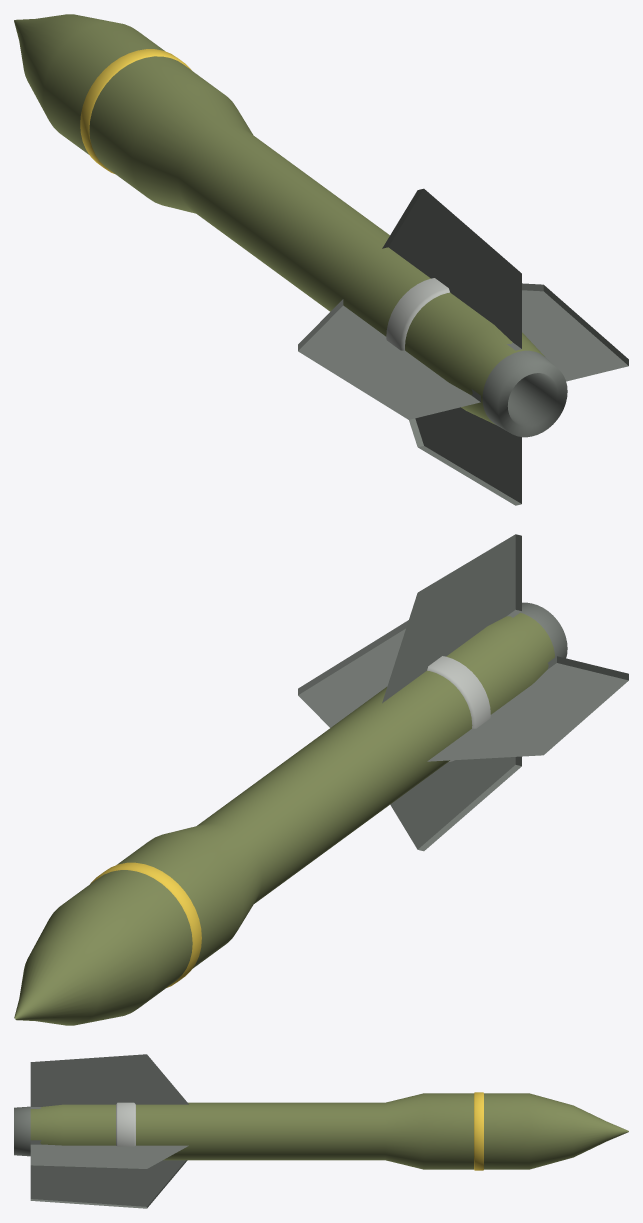
File: rocket.glb
3 views of the same model, one above another, from view 1: azimuth 30°, elevation 25°; view 2: azimuth 150°, elevation 25°; view 3: azimuth 270°, elevation 25° (orthographic). The views are drawn at different scales.
Parts seen in each view (by area): view 1: ShapedChargeOgive, StabilizerFin2, StabilizerFin3, StabilizerFin4, ExhaustNozzle, StabilizerFin1, MotorSteelBand, WarheadBand; view 2: ShapedChargeOgive, StabilizerFin2, StabilizerFin3, StabilizerFin4, StabilizerFin1, MotorSteelBand, WarheadBand, ExhaustNozzle; view 3: ShapedChargeOgive, StabilizerFin2, StabilizerFin4, StabilizerFin1, MotorSteelBand, ExhaustNozzle, WarheadBand.
Boxes of the visible parts, bbox=[...] form: ShapedChargeOgive: bbox=[14, 14, 544, 424]; StabilizerFin2: bbox=[382, 188, 521, 350]; StabilizerFin3: bbox=[298, 299, 480, 419]; StabilizerFin4: bbox=[409, 407, 521, 505]; ExhaustNozzle: bbox=[482, 350, 567, 437]; StabilizerFin1: bbox=[522, 283, 628, 381]; MotorSteelBand: bbox=[386, 278, 449, 350]; WarheadBand: bbox=[80, 49, 191, 174]; ShapedChargeOgive: bbox=[14, 612, 554, 1025]; StabilizerFin2: bbox=[382, 534, 521, 703]; StabilizerFin3: bbox=[427, 656, 628, 761]; StabilizerFin4: bbox=[390, 756, 521, 851]; StabilizerFin1: bbox=[298, 620, 408, 727]; MotorSteelBand: bbox=[427, 656, 490, 761]; WarheadBand: bbox=[90, 862, 201, 987]; ExhaustNozzle: bbox=[520, 602, 567, 658]; ShapedChargeOgive: bbox=[30, 1093, 628, 1169]; StabilizerFin2: bbox=[30, 1054, 188, 1108]; StabilizerFin4: bbox=[30, 1160, 187, 1208]; StabilizerFin1: bbox=[30, 1140, 188, 1168]; MotorSteelBand: bbox=[116, 1102, 135, 1146]; ExhaustNozzle: bbox=[14, 1106, 30, 1156]; WarheadBand: bbox=[474, 1092, 483, 1170].
Size of the model in its own units: 0.304 by 0.304 by 1.11.
